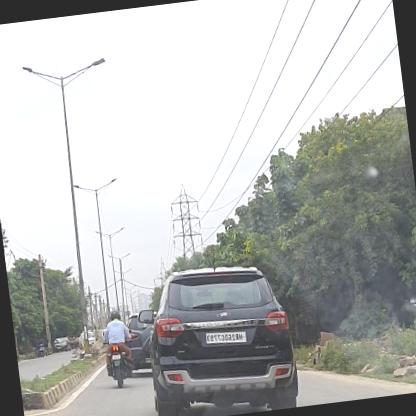car: (131, 256, 300, 415), (120, 310, 165, 375), (50, 336, 70, 353)
motorcycle: (99, 309, 137, 390)
